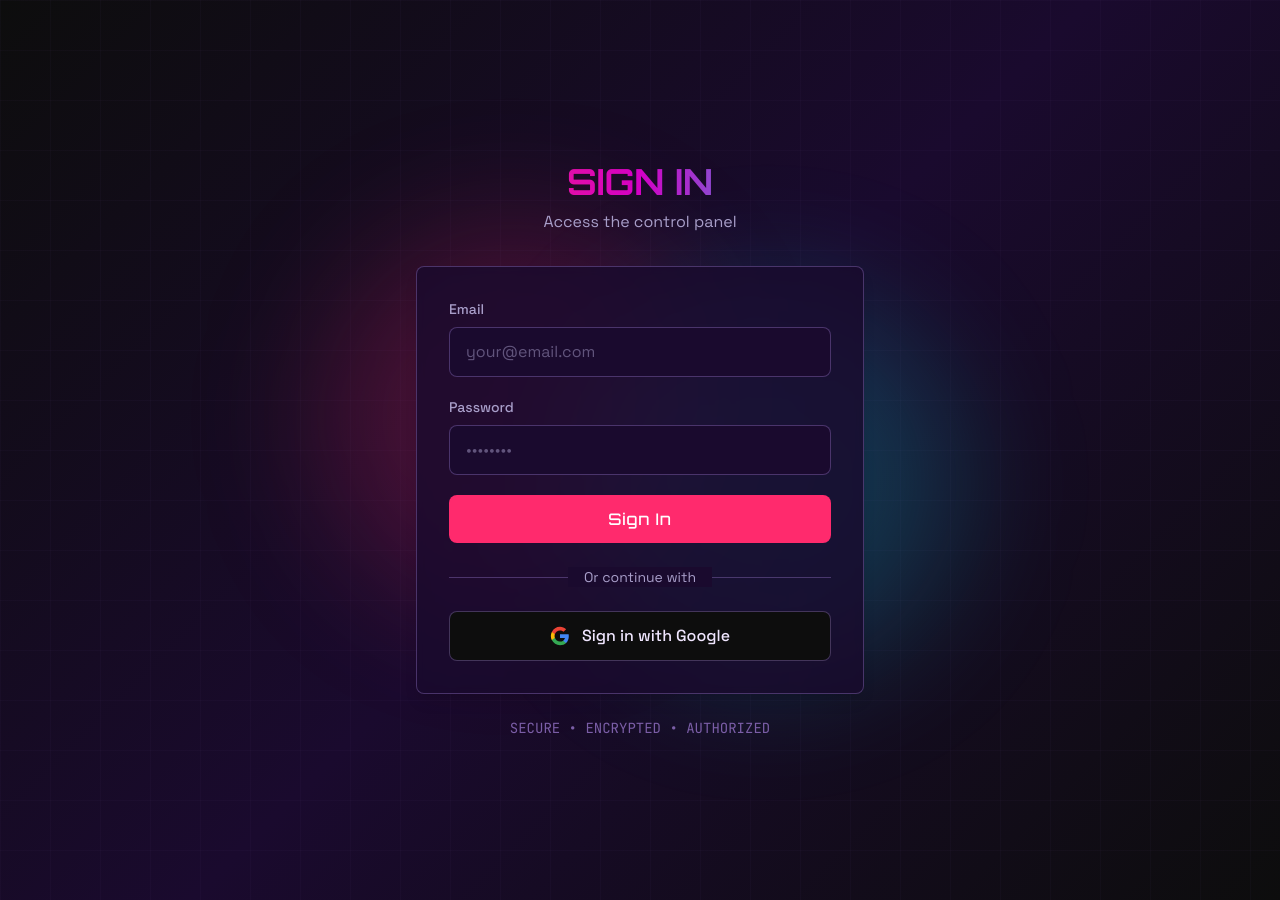
Test case: LoginPage › shows error message when sign in fails
The width and height of the screenshot is (1280, 900).
Type "test@example.com" into the field labelled "Email".
click(640, 352); type("test@example.com")  # box [449,327,831,377]
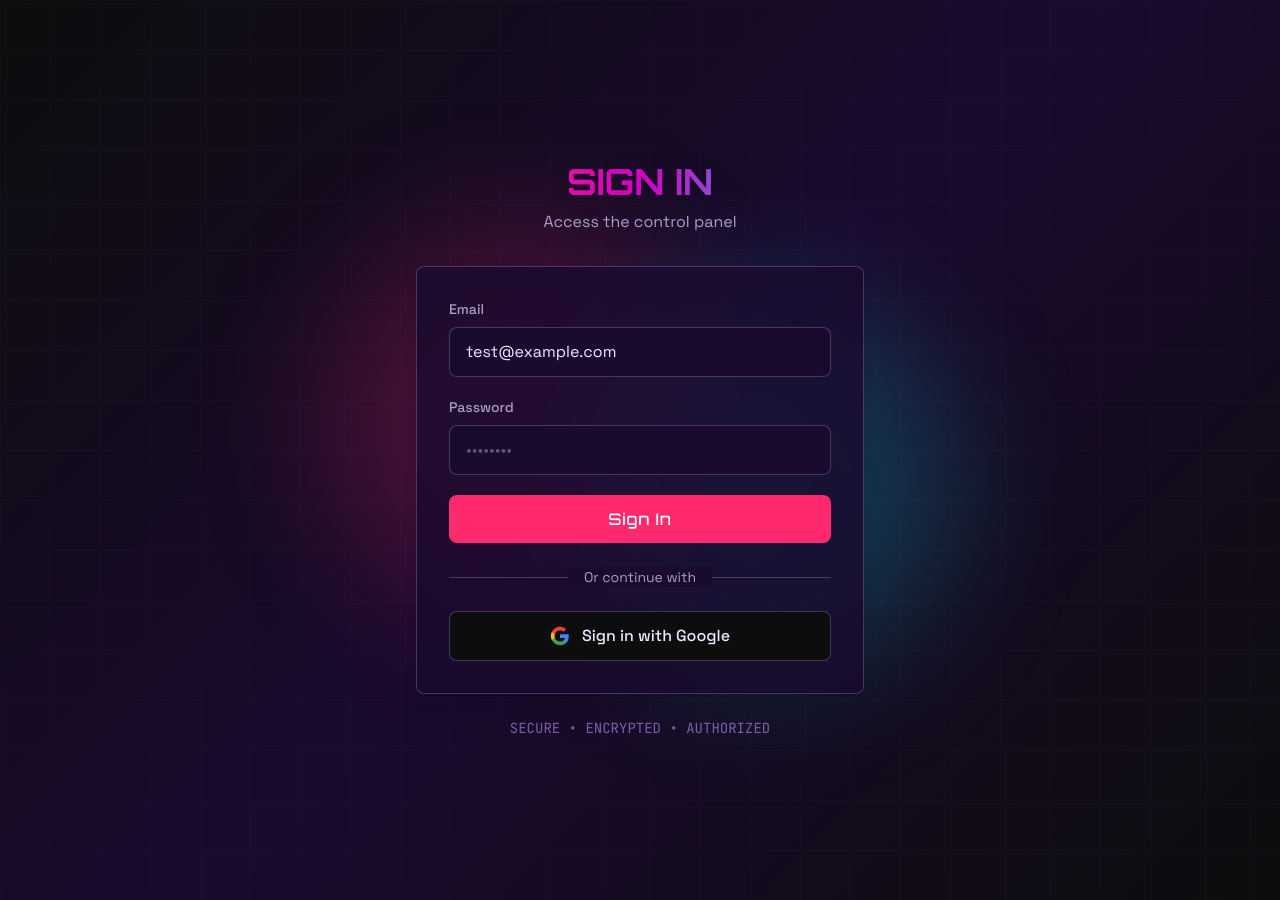
Type "wrongpassword" into the password field labelled "Password".
click(640, 450); type("wrongpassword")  # box [449,425,831,475]
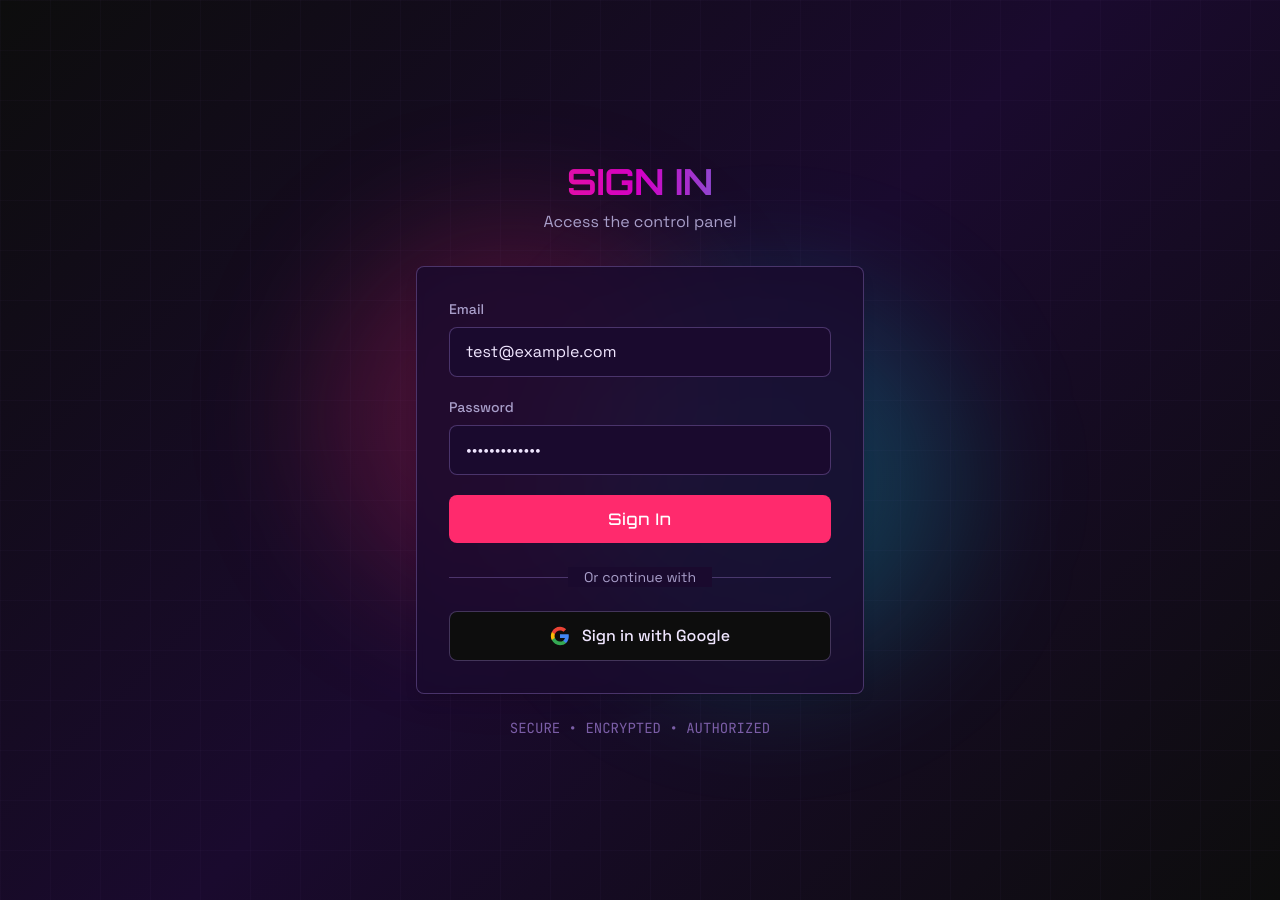
Click the button "Sign In".
click(640, 519)  # box [449,495,831,543]
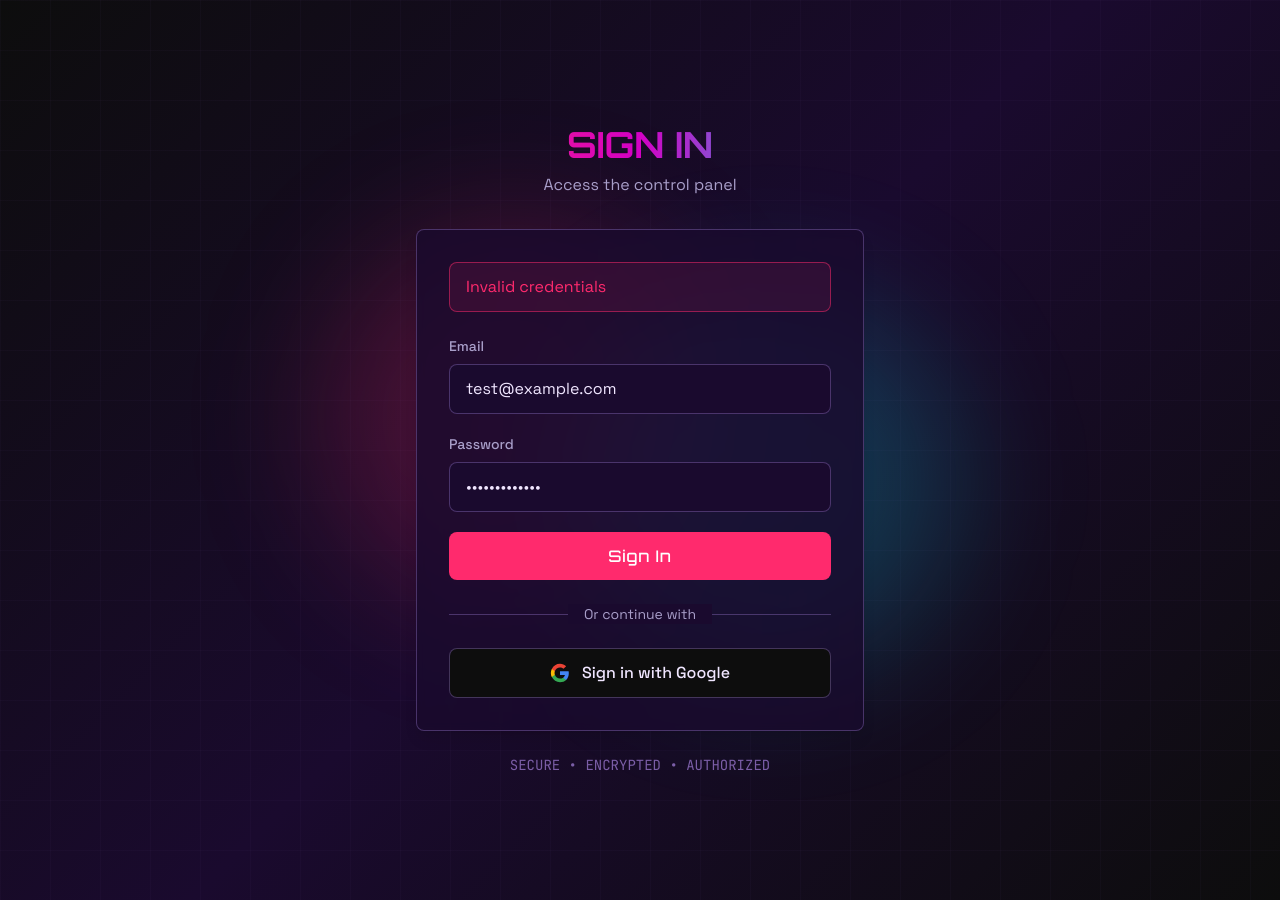
Expected: the message reads "Invalid credentials", [466,276,606,297]
